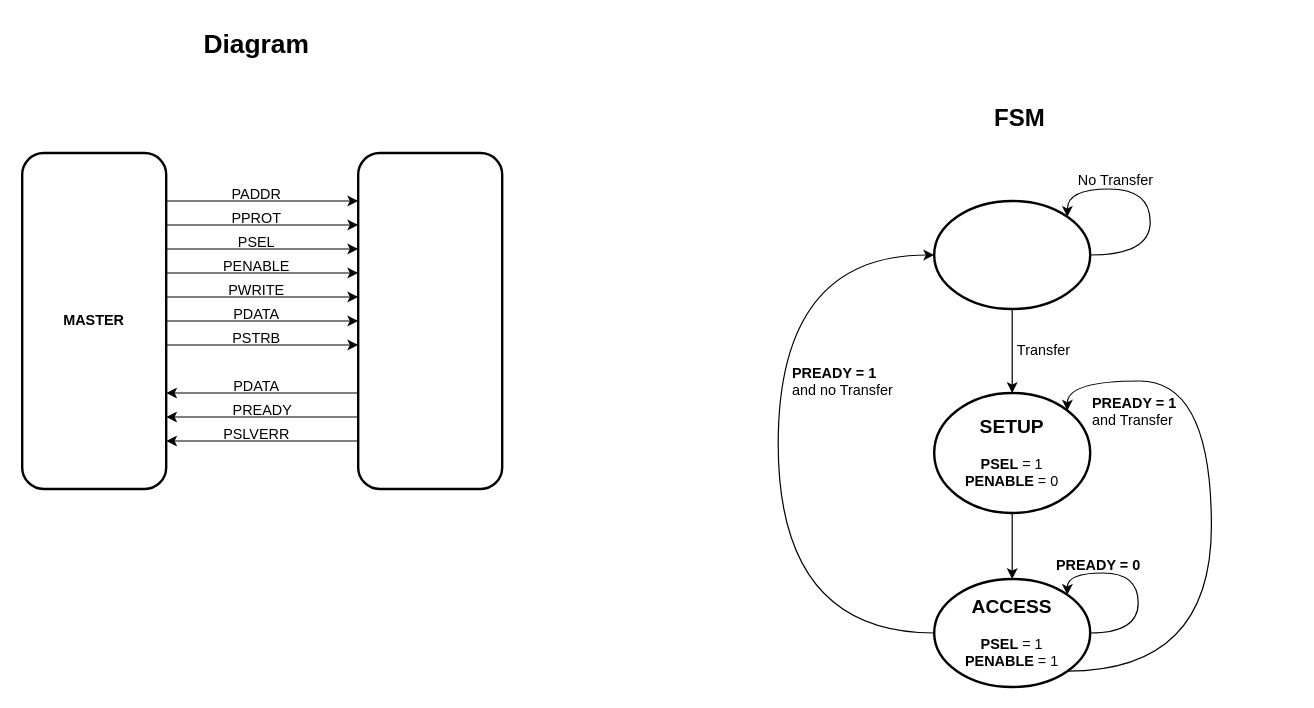
This 1314x708 diagram has some shape labels left out. The shapes that lost their labels are listed below. From the top down, each one's box as (x1, y1, x2, y2) in pixels, then its label:
(932, 199, 1091, 310): IDLE PSEL = 0 PENABLE = 0
(356, 151, 503, 490): SLAVE
